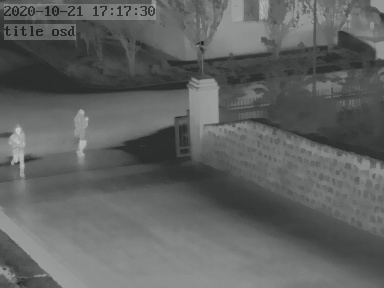person: (5, 123, 26, 172), (71, 107, 89, 156)
